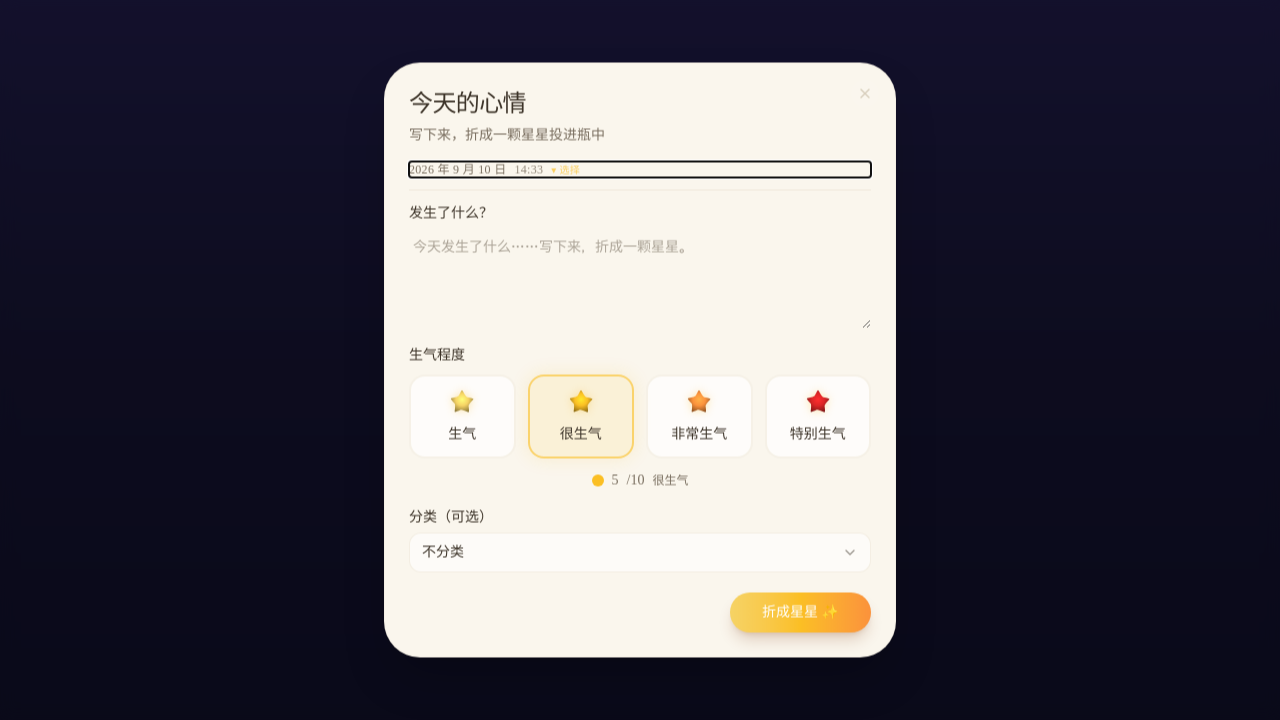
Test case: LogFormDialog › 强度≥8 时弹出呼吸训练邀请
Click the button with test id "mood-特别生气": {"x": 818, "y": 416} [764,374,871,458]
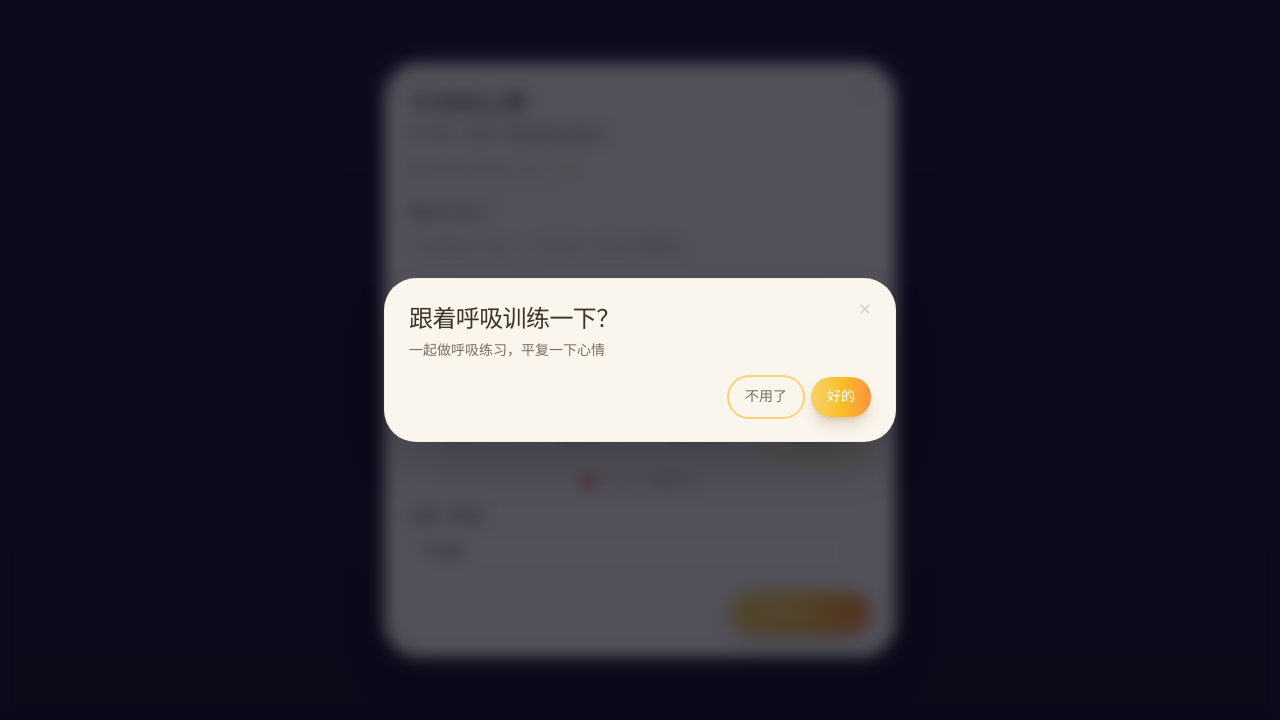
expect the heading "跟着呼吸训练一下？" is shown: met, box [409,306,620,332]
